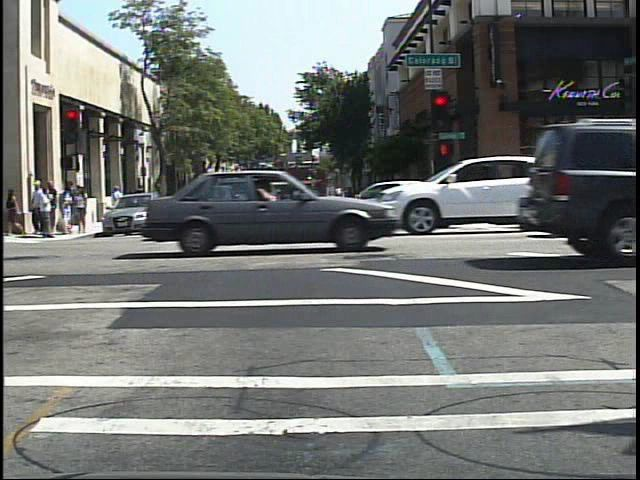person: (107, 179, 127, 226)
